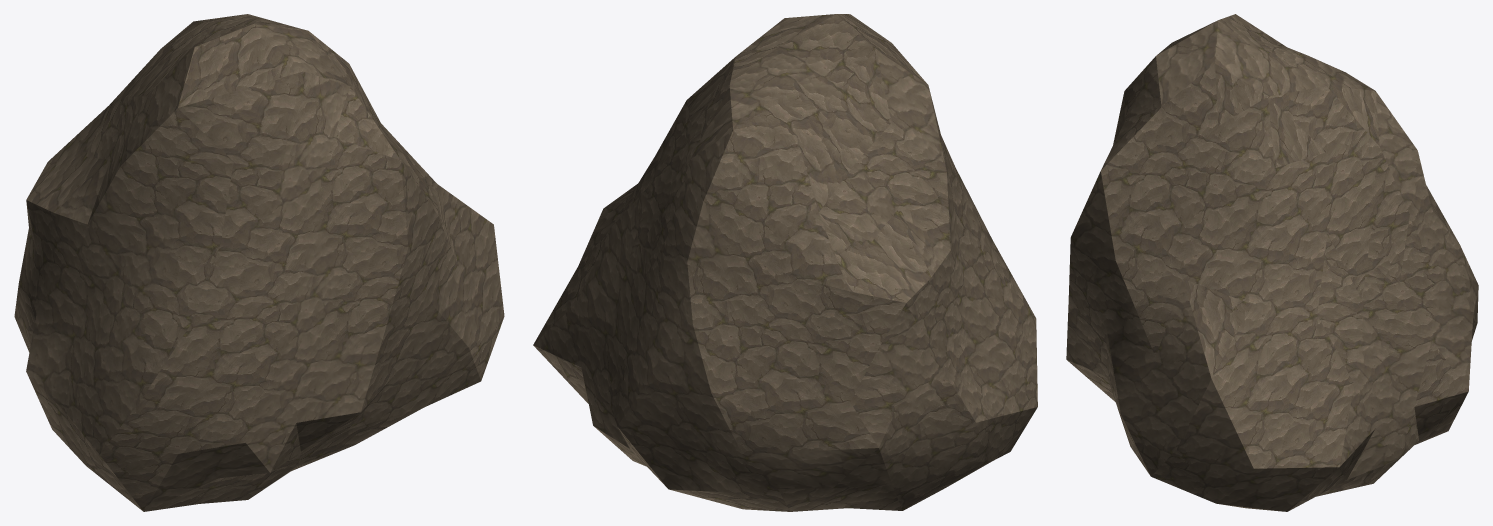
The model's file is grock_o.glb.
3 views of the same model, side by side, from view 1: azimuth 30°, elevation 25°; view 2: azimuth 150°, elevation 25°; view 3: azimuth 270°, elevation 25° (orthographic). The views are drawn at different scales.
Visible parts, largest first — view 1: model; view 2: model; view 3: model.
Boxes of the visible parts, box(x1,y1,x2,y2) form: model: box(14, 14, 504, 511); model: box(533, 14, 1037, 511); model: box(1066, 14, 1478, 511).
Size of the model in its own units: 3.47 by 3.46 by 2.92.
Materials: 1 (1 with a texture image).
